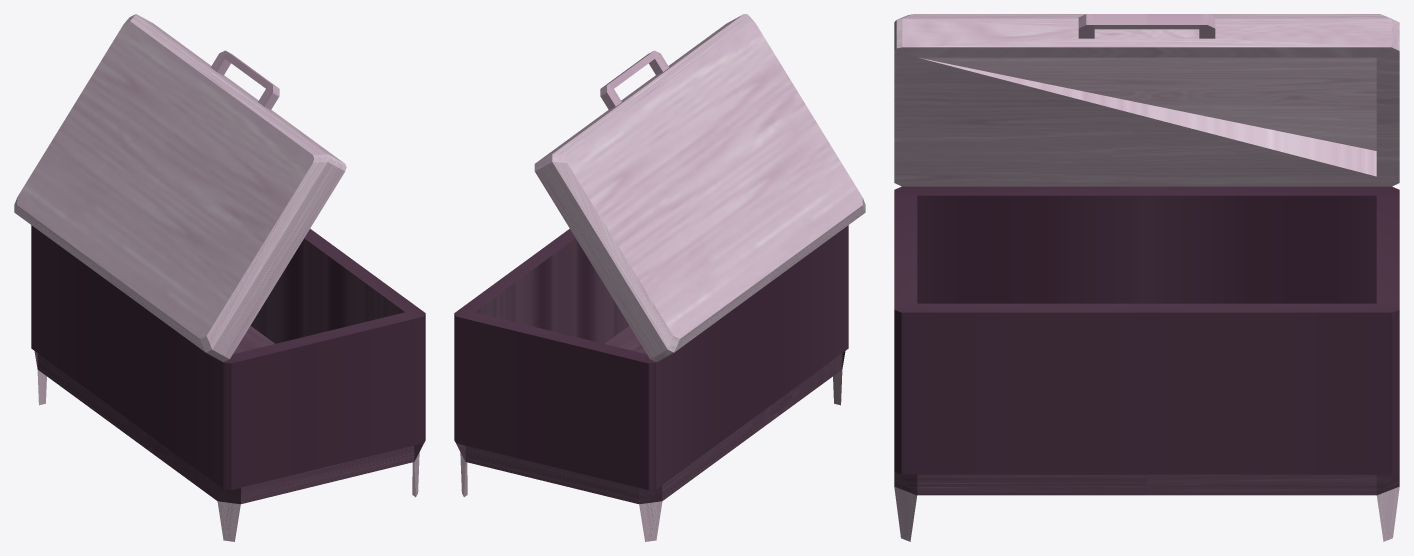
File: bau_aberto.fbx
3 views of the same model, side by side, from view 1: azimuth 30°, elevation 25°; view 2: azimuth 150°, elevation 25°; view 3: azimuth 270°, elevation 25° (orthographic). The views are drawn at different scales.
Visible parts, largest first — view 1: Cube, Cube.001, Cube.002; view 2: Cube, Cube.001, Cube.002; view 3: Cube, Cube.001, Cube.002.
Boxes of the visible parts, box(x1,y1,x2,y2) form: Cube: box(31, 225, 425, 504); Cube.001: box(14, 14, 346, 362); Cube.002: box(37, 370, 419, 541); Cube: box(454, 225, 848, 504); Cube.001: box(534, 14, 865, 362); Cube.002: box(460, 370, 842, 541); Cube: box(894, 186, 1399, 495); Cube.001: box(894, 14, 1399, 186); Cube.002: box(894, 486, 1399, 541).
Bounding box in the file's own units: 189 × 307 × 293.
Materials: 2 (2 with a texture image).
